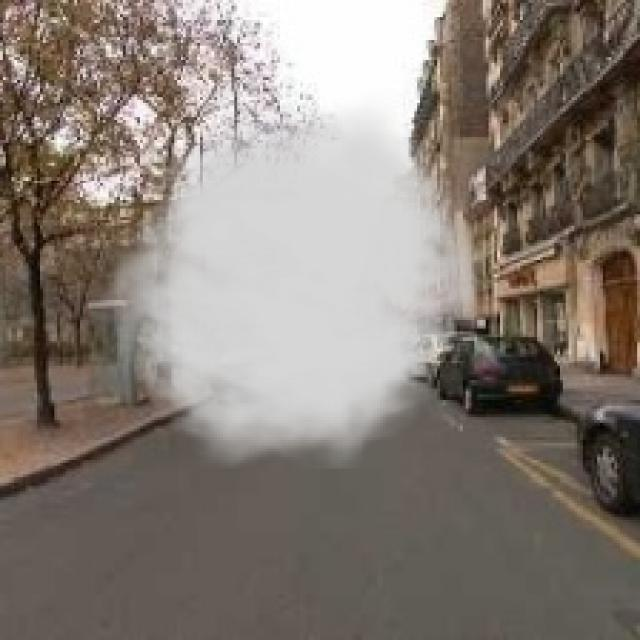smoke: (91, 89, 500, 468)
